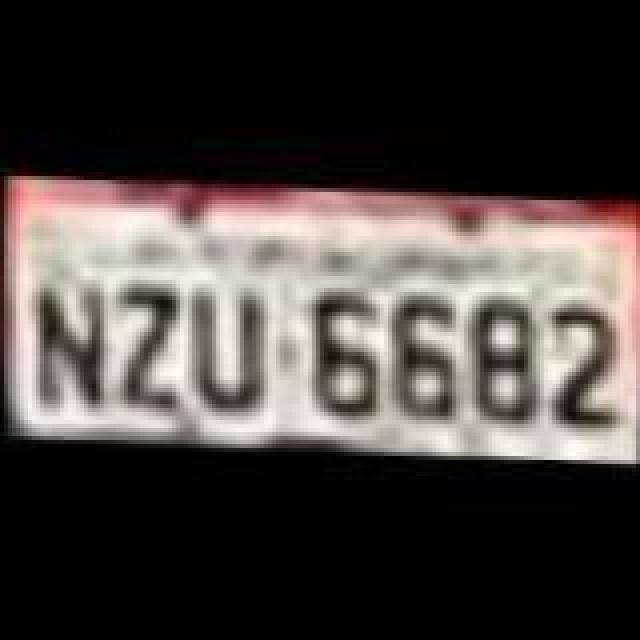2: (542, 304, 630, 432)
6: (302, 286, 390, 422), (384, 298, 468, 422)
8: (462, 294, 550, 430)
N: (26, 280, 114, 416)
U: (180, 282, 272, 414)
Z: (112, 284, 196, 416)
